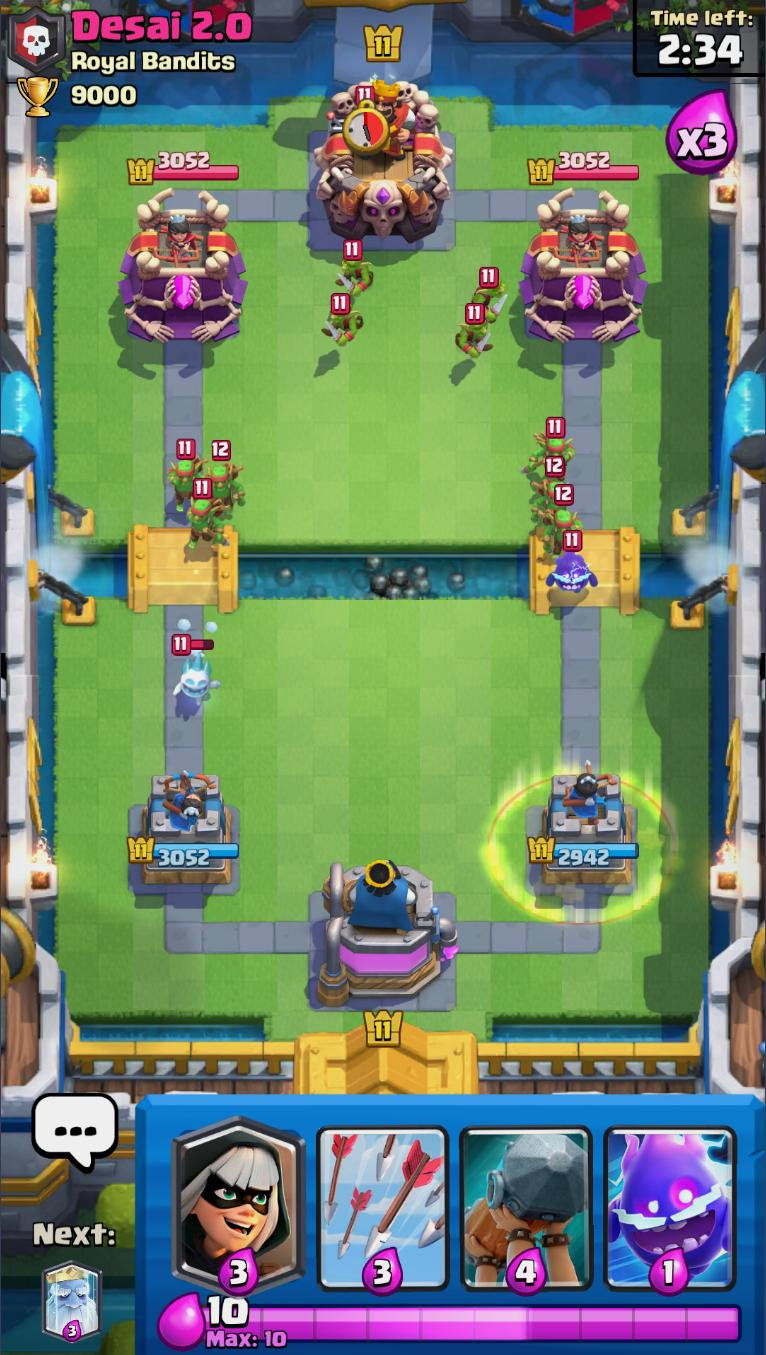ArrowDeck: (308, 1097, 457, 1293)
BanditDeck: (165, 1096, 313, 1290)
BattleRamDeck: (453, 1100, 599, 1297)
ElectroSpirit: (545, 530, 597, 600)
ElectroSpiritDeck: (596, 1097, 744, 1293)
Elixir: (203, 1285, 252, 1328)
EnemyTower: (514, 190, 650, 348), (120, 197, 238, 347)
Goblin: (320, 292, 365, 347), (460, 268, 505, 323), (452, 304, 493, 360), (335, 240, 373, 295)
IceSpirit: (168, 636, 218, 704)
KingTower: (313, 73, 450, 257)
MyKingTower: (315, 860, 462, 1010)
MyPrincessTower: (122, 773, 240, 892), (530, 767, 642, 887)
MyPrincessTowerHP: (121, 834, 240, 868), (526, 836, 641, 870)
PrincessTower: (552, 212, 608, 267), (157, 212, 205, 268)
RoyaleGhostNext: (42, 1257, 103, 1343)
SpearGoblin: (183, 479, 224, 556), (538, 486, 587, 550), (207, 440, 248, 515), (163, 437, 200, 512), (533, 418, 578, 479), (535, 458, 577, 523)
TowerPrincessHP: (124, 150, 240, 189), (526, 149, 641, 188)
